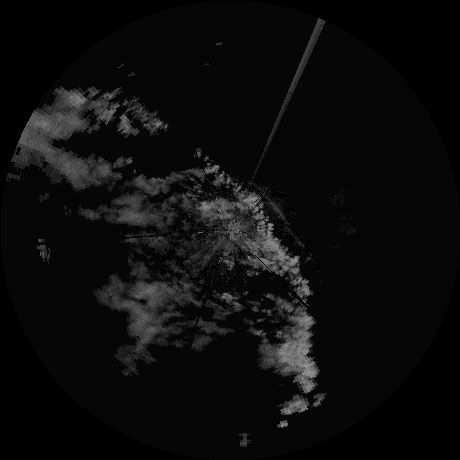frontgust: (249, 180, 299, 243)
